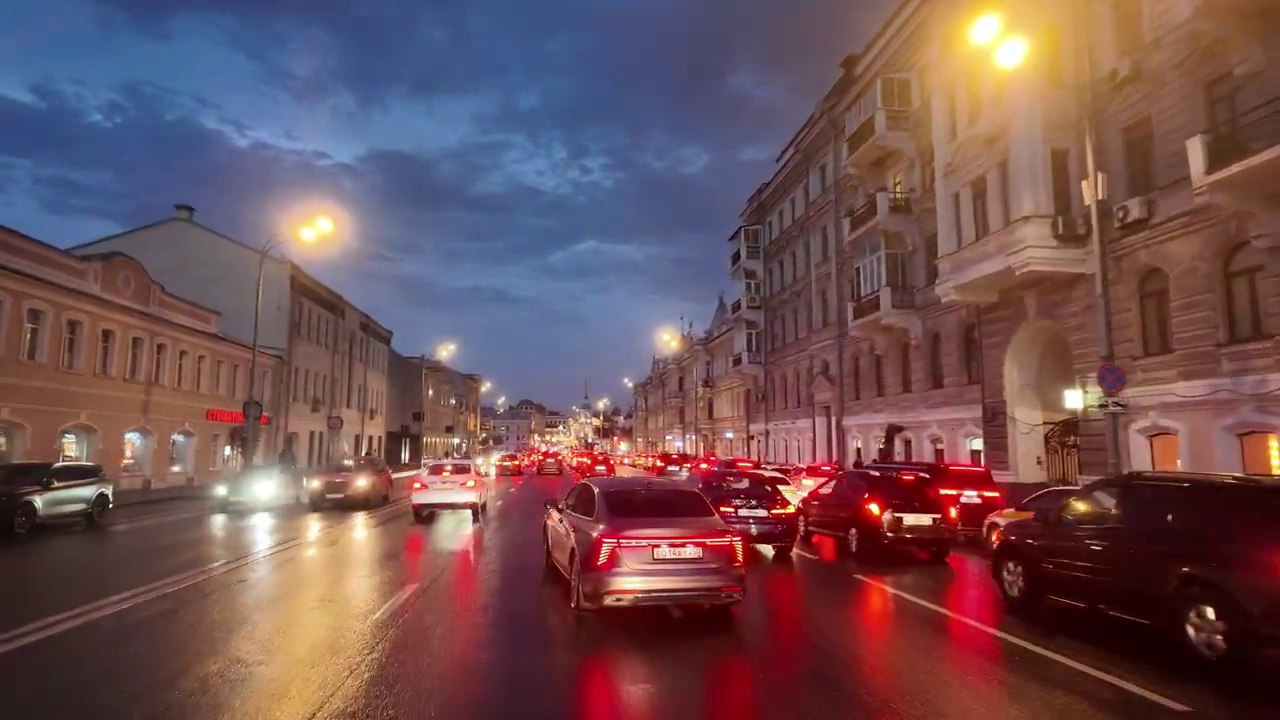acesa: (953, 6, 1043, 77), (291, 210, 340, 250), (656, 326, 685, 355), (433, 339, 458, 363)
apagada: (171, 198, 198, 226)
